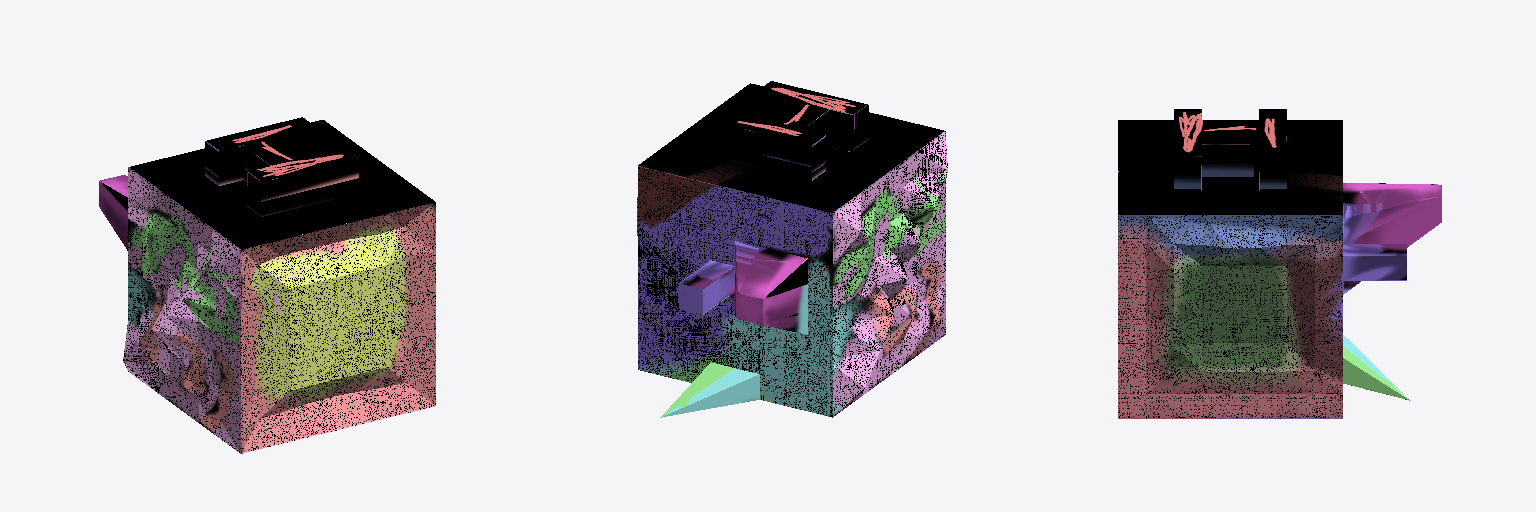
The picture shows the model from 3 angles: view 1: azimuth 30°, elevation 25°; view 2: azimuth 150°, elevation 25°; view 3: azimuth 270°, elevation 25°; orthographic projection.
Parts seen in each view (by area): view 1: Cube; view 2: Cube; view 3: Cube.
Boxes of the visible parts, x1=… form: Cube: x1=99, y1=117, x2=435, y2=453; Cube: x1=637, y1=81, x2=947, y2=417; Cube: x1=1118, y1=109, x2=1441, y2=418.
Bounding box in the file's own units: 2.37 × 2.43 × 2.88.
2 materials, 1 textured.